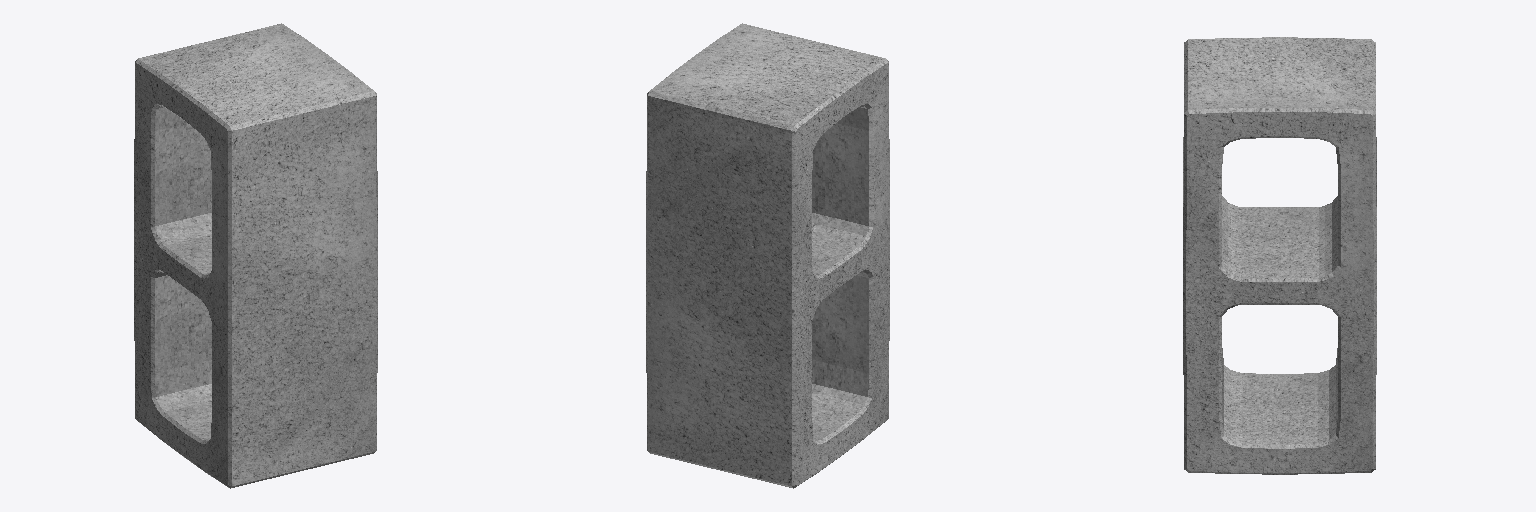
3 renders of one model, left to right at view 1: azimuth 30°, elevation 25°; view 2: azimuth 150°, elevation 25°; view 3: azimuth 270°, elevation 25°, orthographic.
Visible parts, largest first — view 1: Object_TexMap_0; view 2: Object_TexMap_0; view 3: Object_TexMap_0.
Part boxes in pixels (x1,y1,x2,y2): Object_TexMap_0: (134, 23, 377, 488); Object_TexMap_0: (646, 23, 889, 488); Object_TexMap_0: (1183, 37, 1376, 474).
Size of the model in its own units: 1.07 by 2.5 by 1.2.
1 materials, 1 textured.